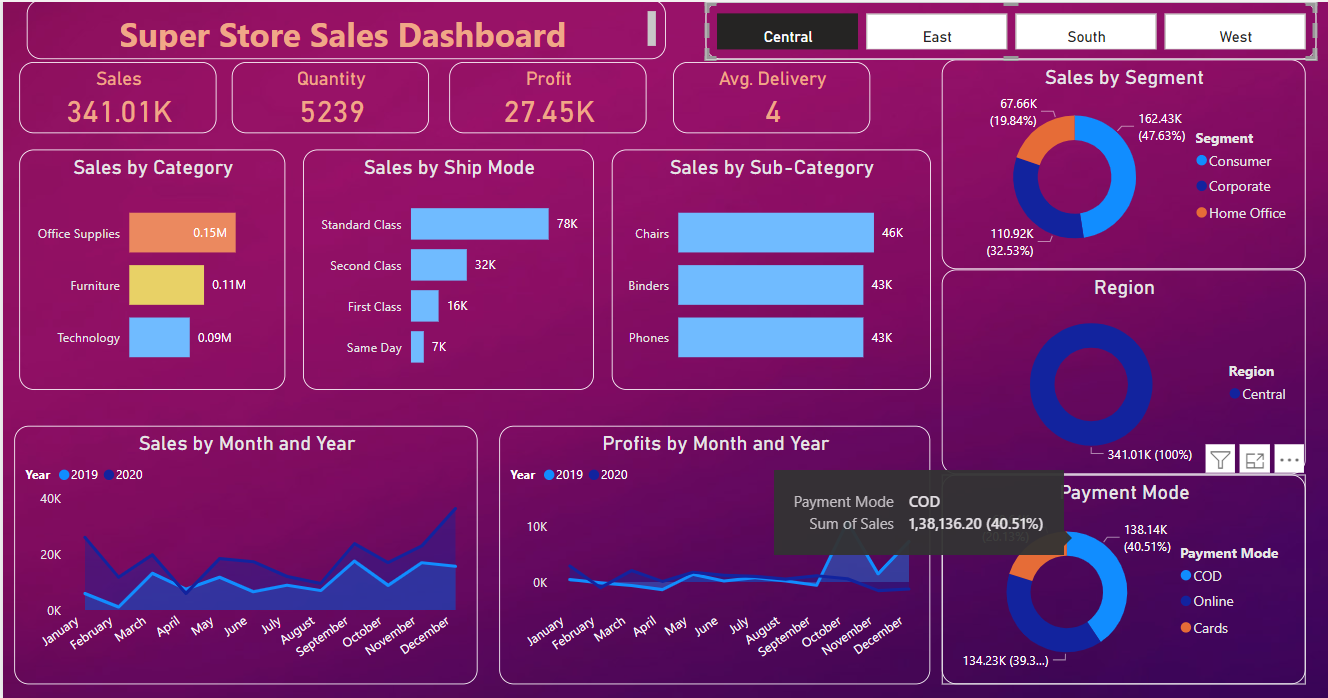

What the dashboard file says about the page in this screenshot:
{"tool":"powerbi","page":{"name":"Page 1","canvas":[1280,720],"ordinal":0},"visuals":[{"type":"clusteredBarChart","title":"Sales by Category","fields":{"Category":["Sheet1.Category"],"Y":["Sum(Sheet1.Sales)"]},"box":[15.7,185.8,257,231.6],"z":0},{"type":"clusteredBarChart","title":"Sales by Sub-Category","fields":{"Category":["Sheet1.Sub-Category"],"Y":["Sum(Sheet1.Sales)"]},"box":[587.5,185.8,307.6,231.6],"z":1000},{"type":"clusteredBarChart","title":"Sales by Ship Mode","fields":{"Y":["Sum(Sheet1.Sales)"],"Category":["Sheet1.Ship Mode"]},"box":[289.5,185.8,281.1,231.6],"z":2000},{"type":"areaChart","title":"Sales by Month and Year","fields":{"Y":["Sum(Sheet1.Sales)"],"Series":["Sheet1.Order Date.Variation.Date Hierarchy.Year"],"Category":["Sheet1.Order Date.Variation.Date Hierarchy.Month"]},"box":[10.9,452.4,447.6,249.7],"z":3000},{"type":"areaChart","title":"Profits by Month and Year","fields":{"Series":["Sheet1.Order Date.Variation.Date Hierarchy.Year"],"Category":["Sheet1.Order Date.Variation.Date Hierarchy.Month"],"Y":["Sum(Sheet1.Profit)"]},"box":[479,452.4,416.2,249.7],"z":4000},{"type":"donutChart","title":"Sales by Segment","fields":{"Category":["Sheet1.Segment"],"Y":["Sum(Sheet1.Sales)"]},"box":[906,98.9,351.1,202.7],"z":5000},{"type":"donutChart","title":"Payment Mode","fields":{"Y":["Sum(Sheet1.Sales)"],"Category":["Sheet1.Payment Mode"]},"box":[906,499.5,351.1,202.7],"z":6000},{"type":"advancedSlicerVisual","fields":{"Values":["Sheet1.Region"]},"box":[678,43.4,589.9,55.5],"z":7000},{"type":"textbox","box":[22.9,41,616.5,57.9],"z":8000},{"type":"card","title":"Sales","fields":{"Values":["Sum(Sheet1.Sales)"]},"box":[15.7,101.3,190.6,68.8],"z":9000},{"type":"card","title":"Quantity","fields":{"Values":["Sum(Sheet1.Quantity)"]},"box":[220.8,101.3,190.6,68.8],"z":10000},{"type":"card","title":"Profit","fields":{"Values":["Sum(Sheet1.Profit)"]},"box":[430.7,101.3,190.6,68.8],"z":11000},{"type":"card","title":"Avg. Delivery","fields":{"Values":["Avg(Sheet1.AvgDelivery)"]},"box":[646.7,101.3,190.6,68.8],"z":12000},{"type":"donutChart","title":"Region","fields":{"Category":["Sheet1.Region"],"Y":["Sum(Sheet1.Sales)"]},"box":[906,301.6,351.1,197.9],"z":13000}]}

Visuals, with their boxes in screenshot pixels (x1, y1, x2, y2):
"Sales by Category" clusteredBarChart: <box>23,146,287,384</box>
"Sales by Sub-Category" clusteredBarChart: <box>611,146,928,384</box>
"Sales by Ship Mode" clusteredBarChart: <box>305,146,594,384</box>
"Sales by Month and Year" areaChart: <box>18,420,478,677</box>
"Profits by Month and Year" areaChart: <box>500,420,928,677</box>
"Sales by Segment" donutChart: <box>939,57,1300,265</box>
"Payment Mode" donutChart: <box>939,469,1300,677</box>
advancedSlicerVisual - Sheet1.Region: <box>704,0,1311,57</box>
textbox: <box>30,0,665,57</box>
"Sales" card: <box>23,59,219,130</box>
"Quantity" card: <box>234,59,430,130</box>
"Profit" card: <box>450,59,646,130</box>
"Avg. Delivery" card: <box>672,59,868,130</box>
"Region" donutChart: <box>939,265,1300,469</box>
